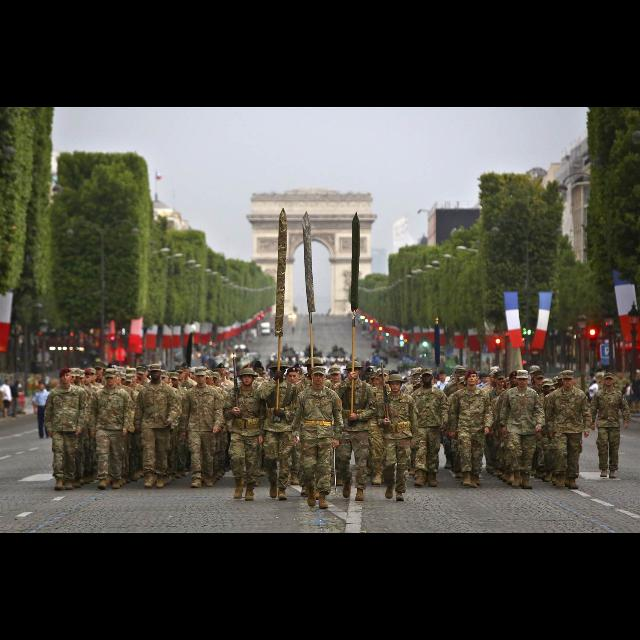head: (18, 378, 27, 414), (310, 370, 328, 386), (346, 364, 362, 381), (240, 369, 256, 386), (388, 377, 404, 393), (272, 362, 286, 378), (60, 369, 74, 385), (422, 369, 434, 386), (104, 372, 118, 386), (195, 370, 208, 384), (516, 374, 528, 388), (466, 372, 478, 386), (150, 367, 162, 381), (562, 374, 574, 388), (603, 375, 615, 387), (38, 382, 46, 391), (5, 380, 11, 386), (14, 381, 20, 387), (590, 374, 594, 378), (593, 382, 597, 384)
person: (290, 366, 346, 510), (222, 363, 266, 502), (132, 363, 180, 489), (333, 361, 375, 502), (256, 356, 296, 504), (375, 373, 421, 501), (498, 370, 546, 492), (86, 368, 134, 490), (178, 365, 225, 489), (42, 368, 88, 492), (447, 369, 493, 489), (547, 369, 591, 491), (586, 372, 632, 481), (406, 368, 446, 490), (31, 380, 51, 440), (10, 380, 26, 418), (0, 379, 14, 419), (585, 373, 597, 409), (588, 380, 600, 414), (18, 378, 27, 414)
